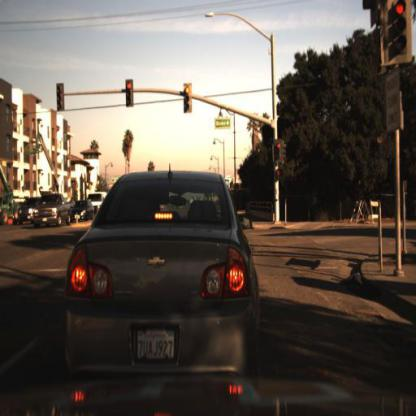car: (63, 169, 263, 389), (32, 191, 70, 229), (16, 197, 44, 231), (85, 188, 110, 221), (66, 198, 95, 226)
trafficLight: (184, 82, 194, 116), (56, 84, 65, 111)
trafficLight-Red: (383, 2, 414, 65), (388, 1, 406, 56), (274, 140, 285, 165), (126, 79, 135, 109), (277, 139, 282, 155)
